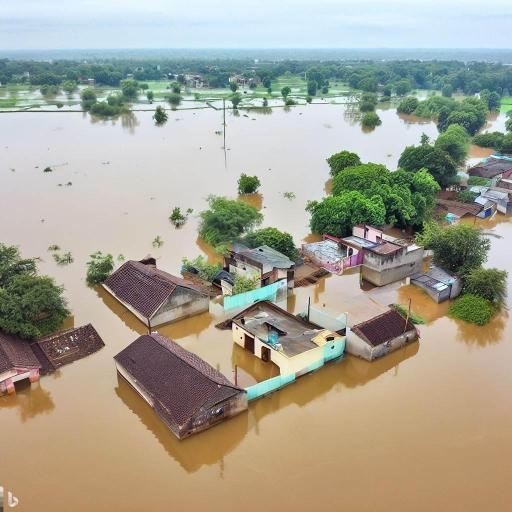flood: (0, 104, 512, 512), (158, 296, 280, 388), (288, 274, 407, 327), (0, 85, 82, 111), (480, 104, 512, 133), (176, 98, 224, 109), (130, 100, 172, 110), (238, 96, 264, 110), (312, 96, 346, 103), (410, 90, 430, 100), (267, 98, 286, 107), (293, 96, 309, 105), (226, 98, 232, 108), (168, 104, 176, 109)
house: (112, 332, 250, 440), (232, 296, 348, 386), (102, 260, 216, 335), (348, 306, 420, 360), (326, 224, 395, 276), (228, 241, 296, 289), (0, 332, 41, 400), (409, 264, 463, 304), (365, 239, 429, 271), (467, 150, 512, 178), (473, 193, 509, 219)
